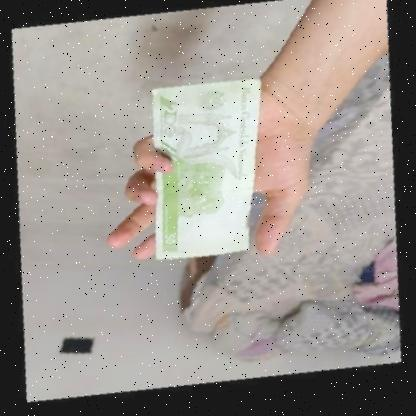fifty-back-vef: (139, 74, 263, 270)
